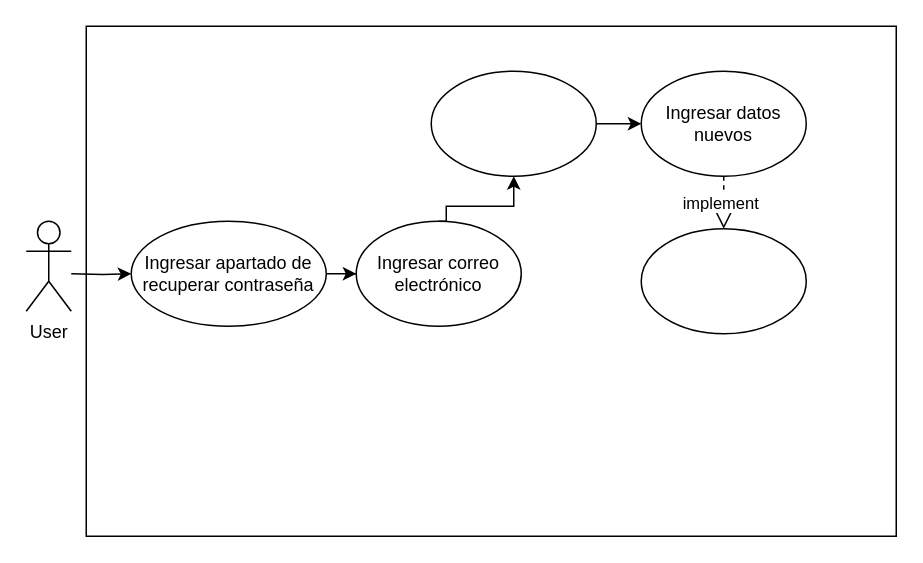
Image size: 923x563. Some labels were removed from this diagram. Here are the shapes that lost their labels. From the top down, the centre of each, then its label:
At (513,123): "Cambiar contraseña".
At (723,280): "Iniciar sesión".
